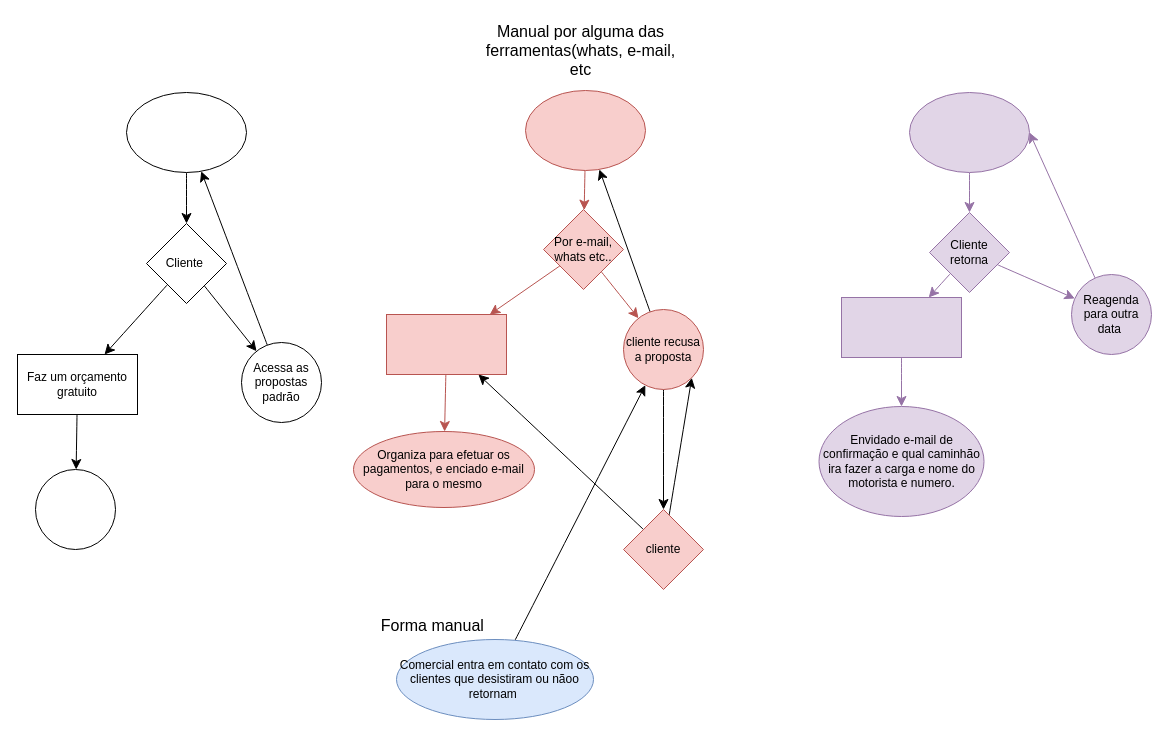
The diagram is 1169 pixels wide and 737 high, and some of its shapes have lost their labels. The box of each missing label's shape, as (x1, y1, x2, y2) in pixels:
Cliente aceita a proposta e da retorno de confirmação: (386, 314, 506, 374)
Cliente acessa o site: (126, 92, 246, 172)
Confirma a data e efetua pagamento: (840, 296, 962, 358)
Proposta enviada com sucesso: (34, 468, 116, 550)
Vendedor entra em contato com o cliente: (524, 90, 646, 170)
Vendedor faz contato para confirmação do dia: (908, 92, 1030, 172)
